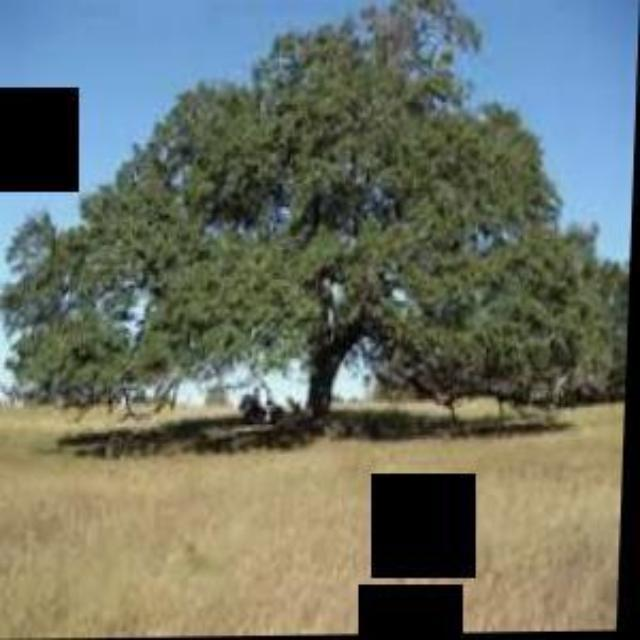tree: (0, 7, 620, 440)
